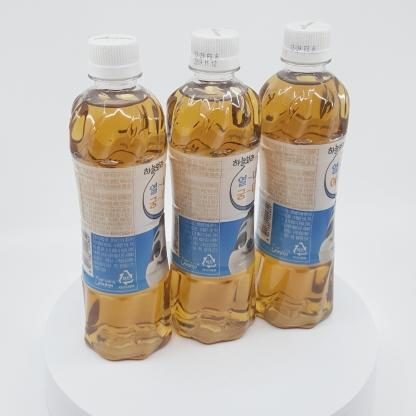------500ML: (68, 34, 172, 360), (246, 20, 350, 328), (165, 27, 262, 344)
